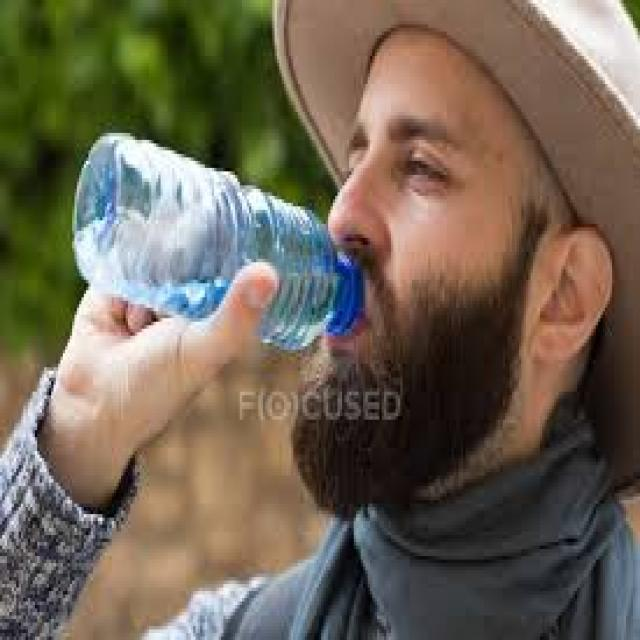hat: (270, 0, 640, 497)
